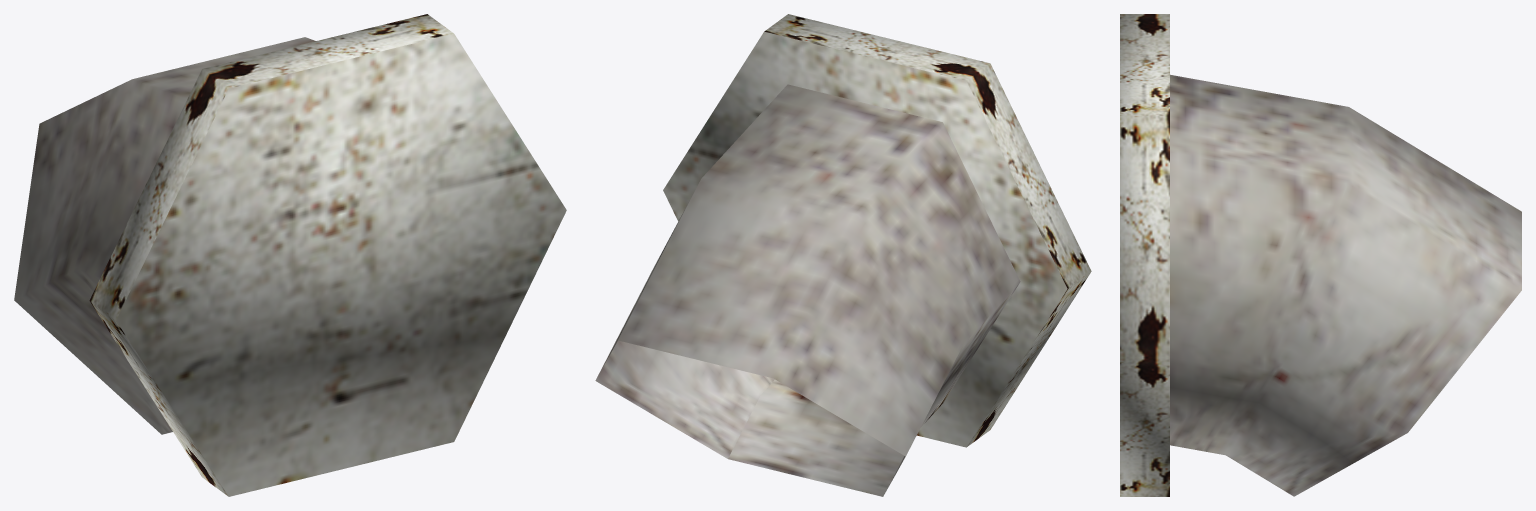
Rendered from large_white_2_small-elbow.fbx.
3 views of the same model, side by side, from view 1: azimuth 30°, elevation 25°; view 2: azimuth 150°, elevation 25°; view 3: azimuth 270°, elevation 25° (orthographic). The views are drawn at different scales.
Visible parts, largest first — view 1: polySurface653; view 2: polySurface653; view 3: polySurface653.
Boxes of the visible parts, x1,y1,x2,y2 form: polySurface653: (14,14,566,496); polySurface653: (595,14,1091,496); polySurface653: (1120,14,1521,496).
Size of the model in its own units: 1.3 by 1.16 by 1.08.
